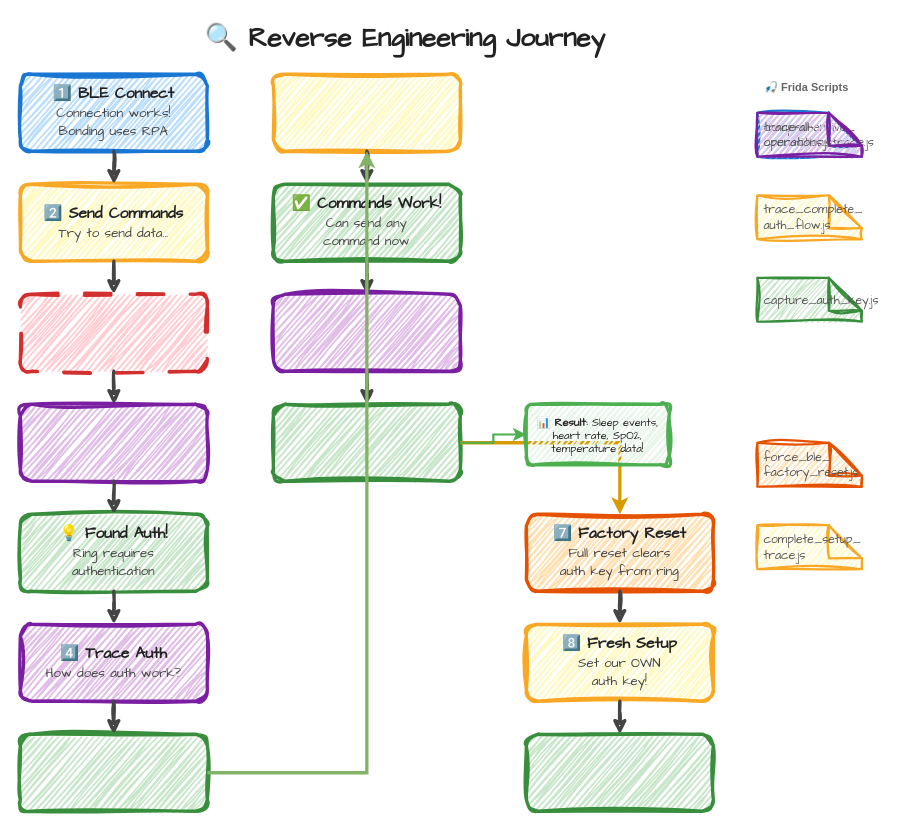
Image size: 899x832. Some labels were removed from this diagram. Here are the shapes that lost their labels. From the top down, the centre of each, then its label:
At (366,112): "5️⃣ Use Key Authenticate with captured key".
At (113,332): "❌ FAILED Commands rejected by ring".
At (366,332): "6️⃣ Read Data GetEvent commands for sensor data".
At (113,442): "3️⃣ Trace App What does app do on connect?".
At (366,442): "✅ Data Access! Protobuf decoded health data".
At (113,772): "🔑 Found Key AES-128 shared secret in app database".
At (619,772): "🎉 Full Control Independent from Oura app!".
